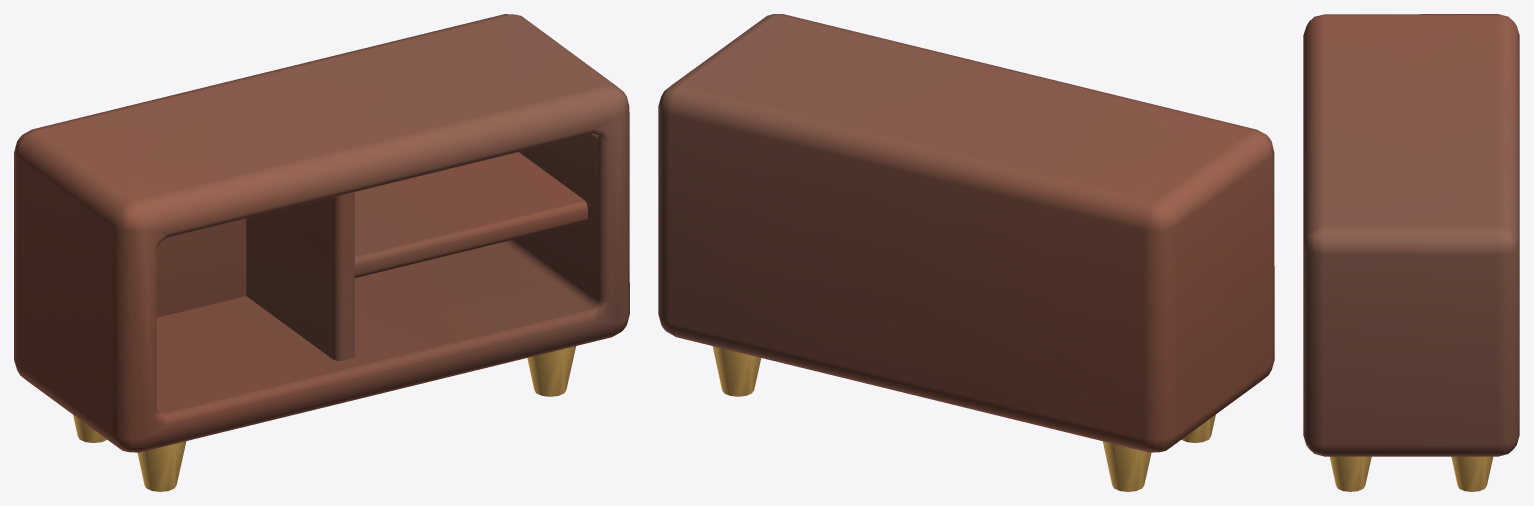
Rendered from TV_Stand_04.glb.
3 views of the same model, side by side, from view 1: azimuth 30°, elevation 25°; view 2: azimuth 150°, elevation 25°; view 3: azimuth 270°, elevation 25° (orthographic). The views are drawn at different scales.
Visible parts, largest first — view 1: TV_Stand_04; view 2: TV_Stand_04; view 3: TV_Stand_04.
Boxes of the visible parts, x1,y1,x2,y2 form: TV_Stand_04: [14, 14, 629, 491]; TV_Stand_04: [658, 14, 1274, 491]; TV_Stand_04: [1303, 14, 1519, 491].
Bounding box in the file's own units: 1 × 0.5737 × 0.4.
Materials: 1 (1 with a texture image).
